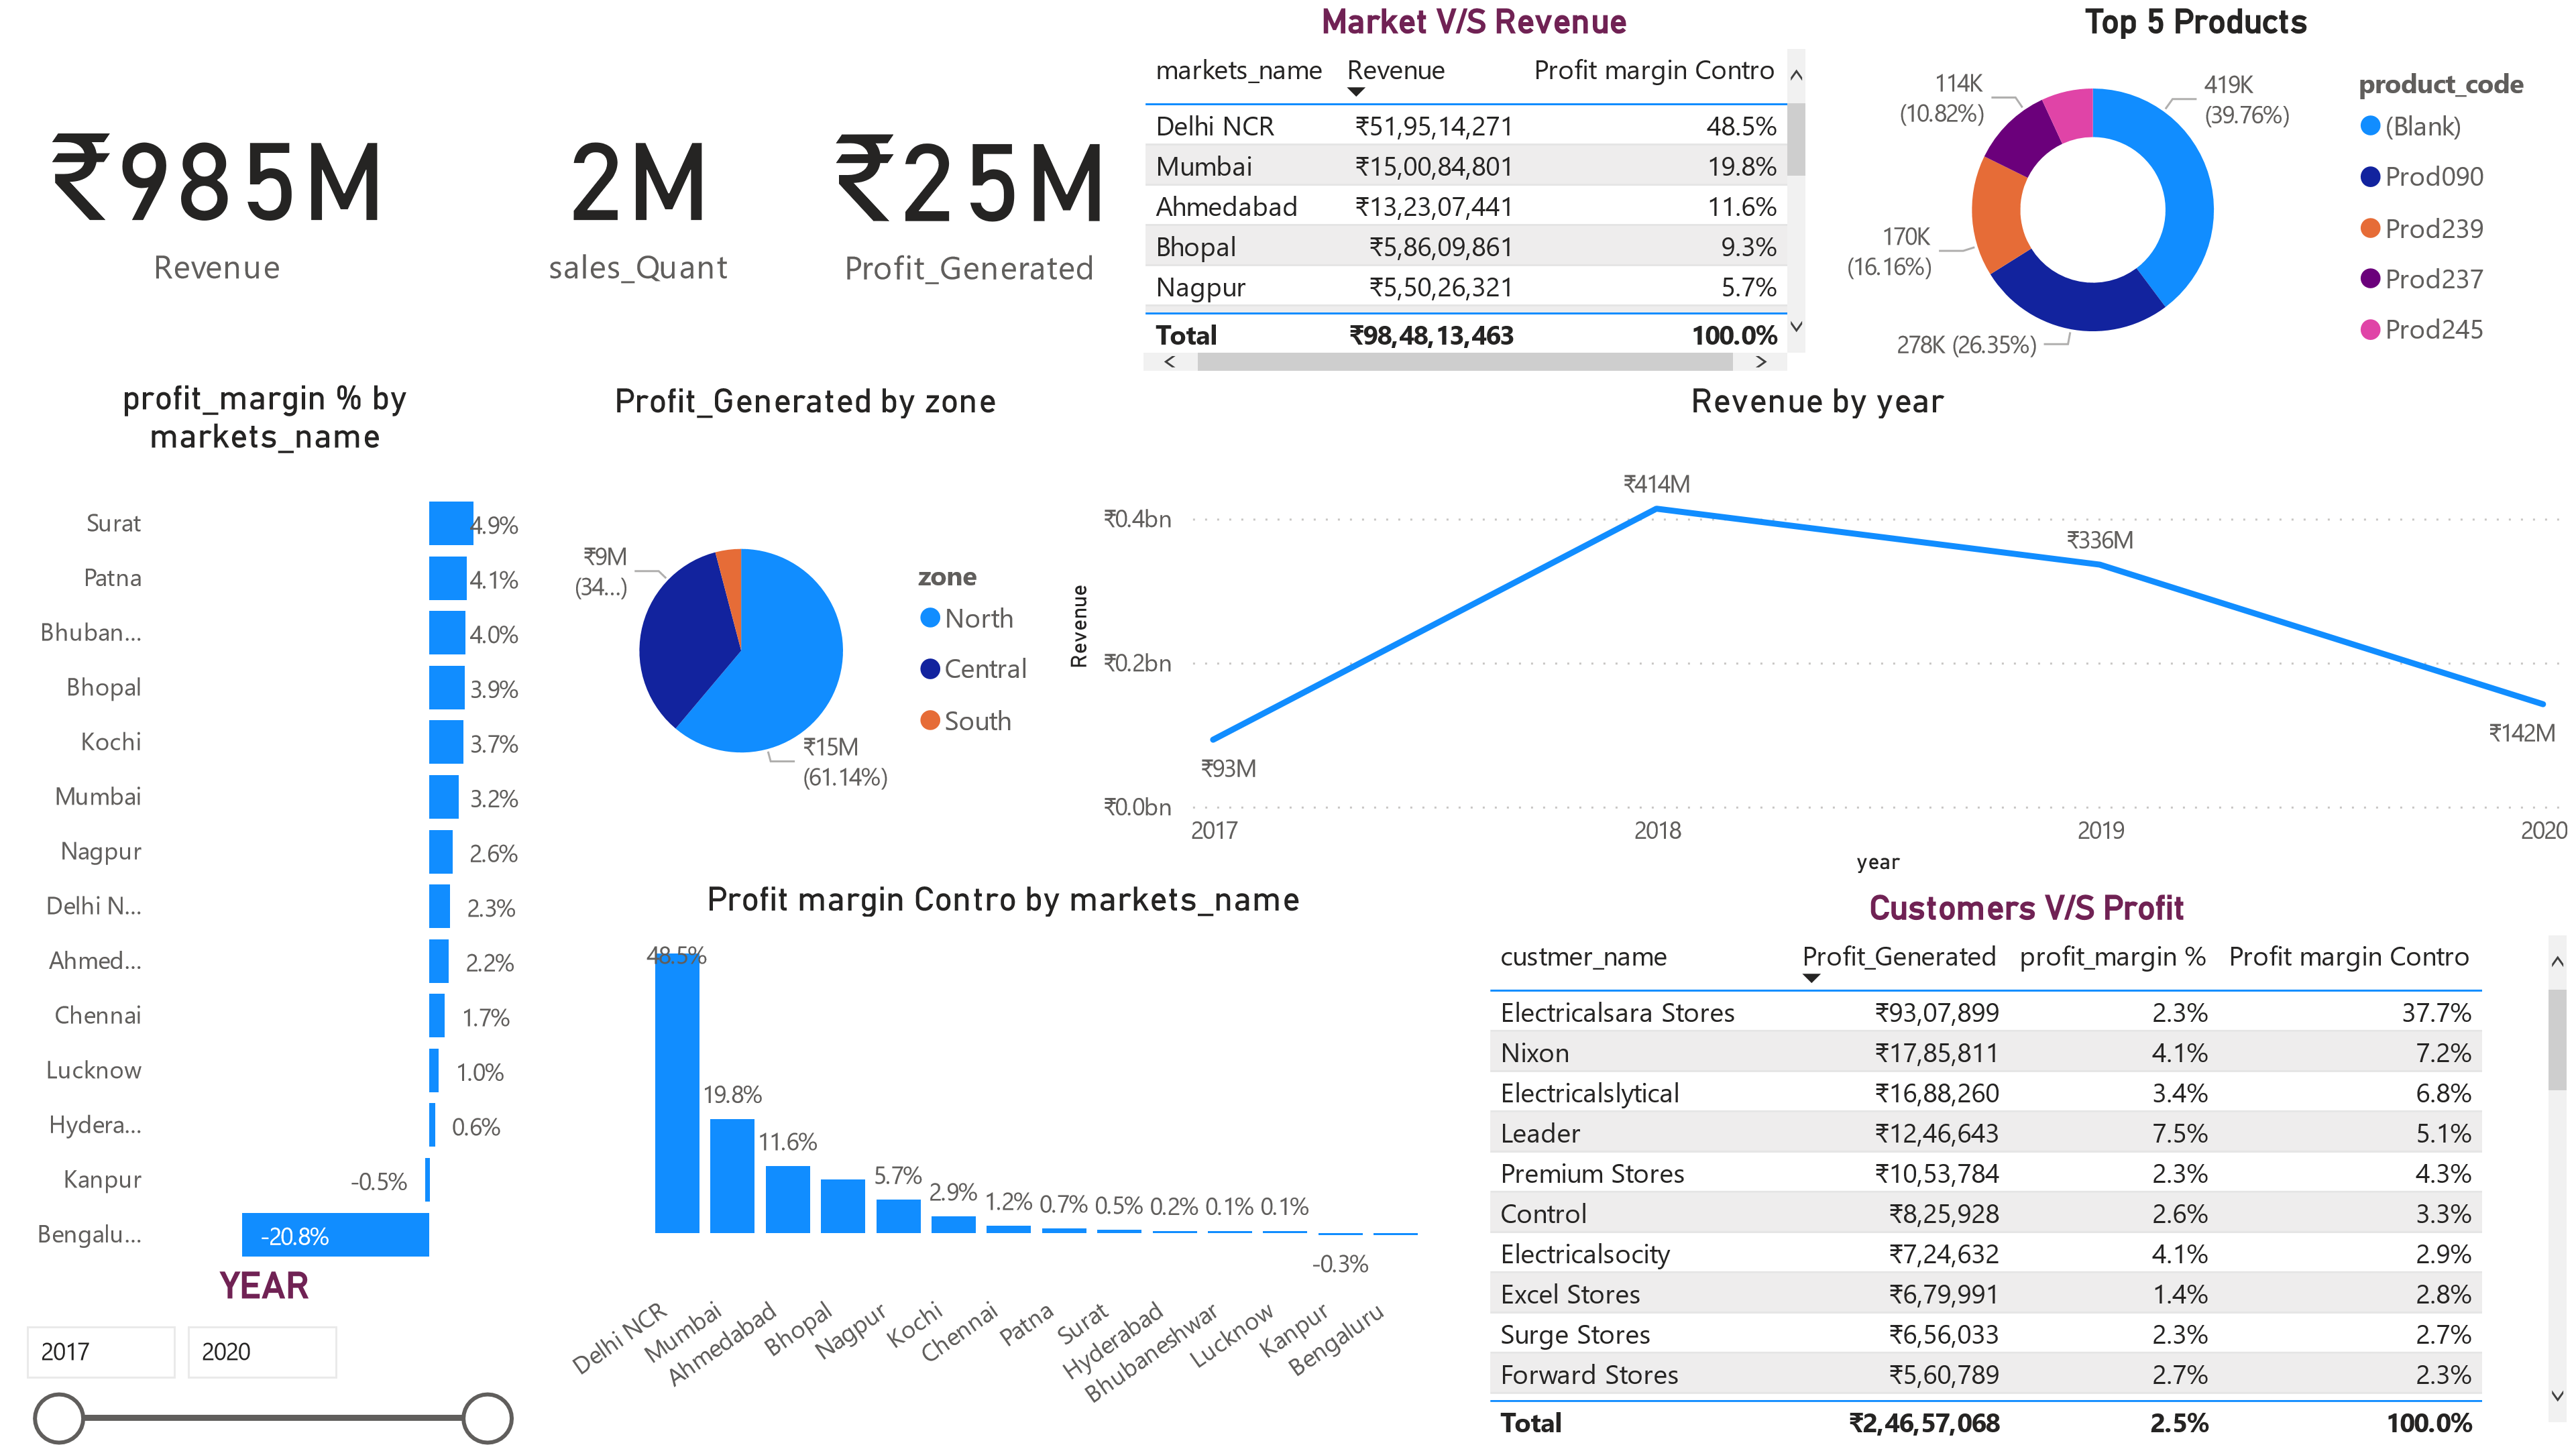

What the dashboard file says about the page in this screenshot:
{"tool":"powerbi","page":{"name":"Page 1","canvas":[1280,720],"ordinal":0},"visuals":[{"type":"card","fields":{"Values":["BaseMeasures.Revenue"]},"box":[0,0,215,186.7],"z":0},{"type":"card","fields":{"Values":["BaseMeasures.sales_Quant"]},"box":[215,0,205,186.7],"z":1000},{"type":"card","fields":{"Values":["BaseMeasures.Profit_Generated %"]},"box":[400,0,163.3,187.8],"z":2000},{"type":"barChart","fields":{"Y":["BaseMeasures.profit_margin %"],"Category":["sales markets.markets_name"]},"box":[0,187.1,262.9,452.9],"z":3000},{"type":"pieChart","fields":{"Category":["sales markets.zone"],"Y":["BaseMeasures.Profit_Generated"]},"box":[275,188.3,250,250],"z":4000},{"type":"lineChart","fields":{"Category":["sales date.year"],"Y":["BaseMeasures.Revenue"]},"box":[525,188.3,755,250],"z":5000},{"type":"slicer","title":"YEAR","fields":{"Values":["sales date.year"]},"box":[0,627.5,262.5,92.5],"z":6000},{"type":"columnChart","fields":{"Y":["BaseMeasures.Profit margin Contribution"],"Category":["sales markets.markets_name"]},"box":[276,436,444,284],"z":7000},{"type":"tableEx","title":"Customers V/S Profit","fields":{"Values":["sales customers.custmer_name","BaseMeasures.Profit_Generated","BaseMeasures.profit_margin %","BaseMeasures.Profit margin Contribution"]},"box":[734,440,546,280],"z":8000},{"type":"tableEx","title":"Market V/S Revenue","fields":{"Values":["sales markets.markets_name","BaseMeasures.Revenue","BaseMeasures.Profit margin Contribution"]},"box":[563.3,0,338.9,188.9],"z":9000},{"type":"donutChart","title":"Top 5 Products","fields":{"Category":["sales products.product_code"],"Y":["BaseMeasures.sales_Quant"],"Series":["sales products.product_type"]},"box":[902.9,0,377.1,188.6],"z":10000}]}

Visuals, with their boxes in screenshot pixels (x1, y1, x2, y2), scaled from the page's 1280x720 canvas onto the 2576x1449 screenshot:
card - BaseMeasures.Revenue: crop(0, 0, 433, 375)
card - BaseMeasures.sales_Quant: crop(433, 0, 845, 375)
card - BaseMeasures.Profit_Generated %: crop(805, 0, 1133, 378)
barChart - BaseMeasures.profit_margin % x sales markets.markets_name: crop(0, 377, 529, 1288)
pieChart - sales markets.zone x BaseMeasures.Profit_Generated: crop(553, 379, 1056, 882)
lineChart - sales date.year x BaseMeasures.Revenue: crop(1056, 379, 2575, 882)
"YEAR" slicer: crop(0, 1263, 528, 1448)
columnChart - BaseMeasures.Profit margin Contribution x sales markets.markets_name: crop(555, 878, 1449, 1448)
"Customers V/S Profit" tableEx: crop(1477, 886, 2575, 1448)
"Market V/S Revenue" tableEx: crop(1133, 0, 1815, 380)
"Top 5 Products" donutChart: crop(1817, 0, 2575, 380)
